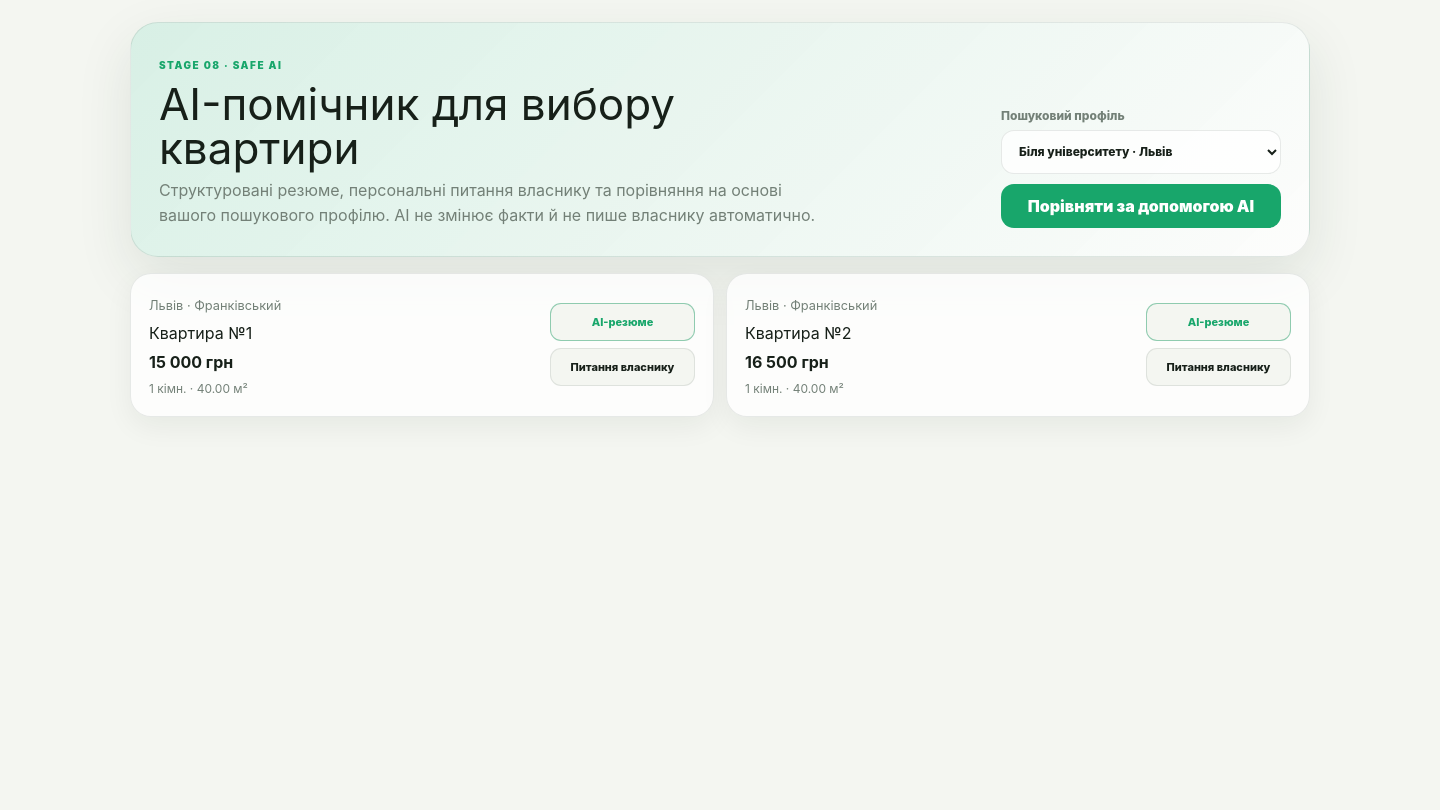
Test case: AIAssistantWorkspace › shows a validated AI summary without replacing source facts
Expected: the heading "Квартира №1" is shown, [149,323,252,343]
Step 1. Click the button "AI-резюме" in the row of "Квартира №1" → (622,322), box [550,303,695,341]
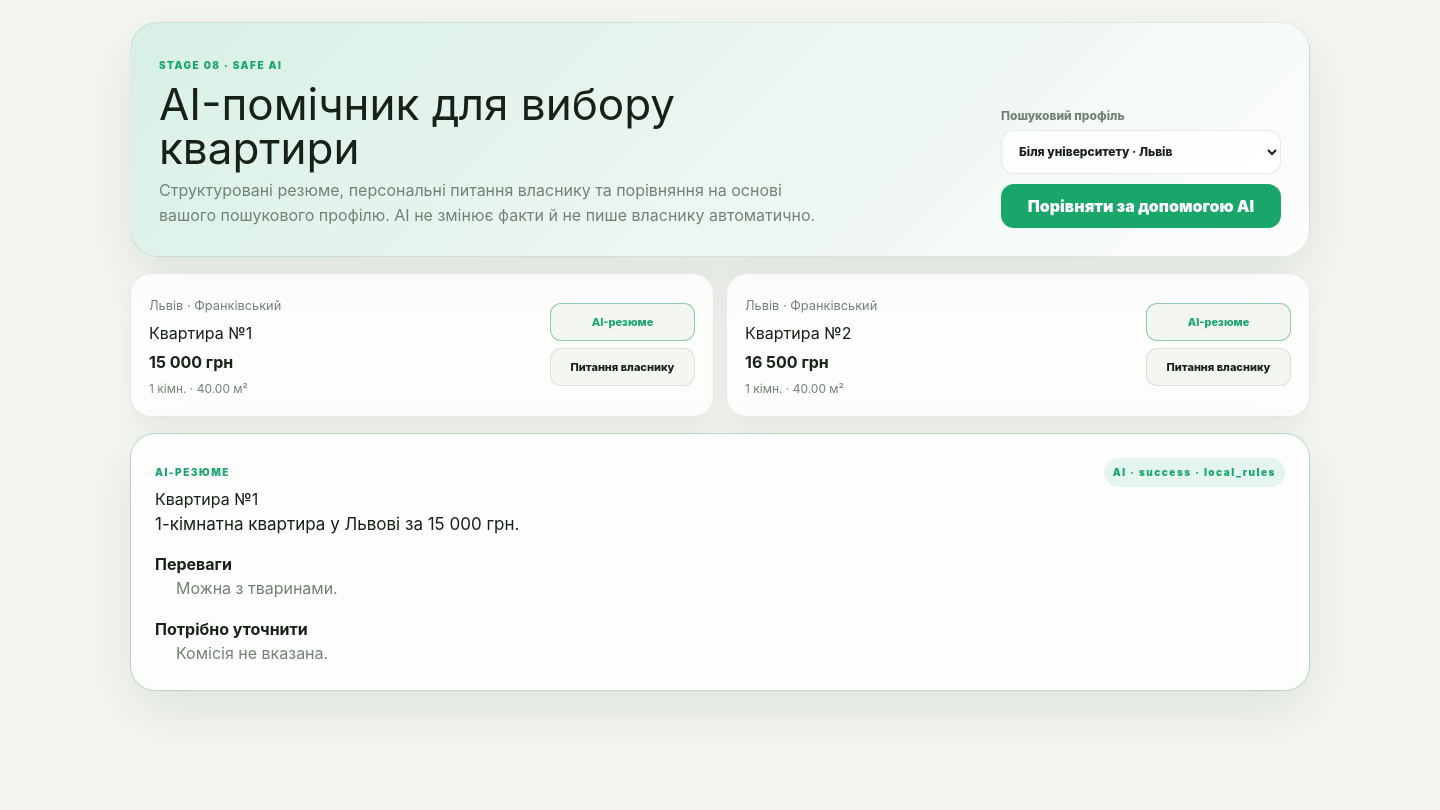
Now the text "1-кімнатна квартира у Львові за 15 000 грн." is shown, box [155,514,519,534]
Now the list item "Комісія не вказана." is shown, box [176,642,328,662]
